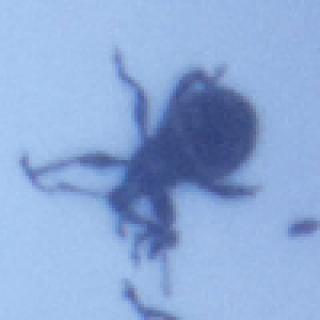bvw: (17, 41, 262, 301)
